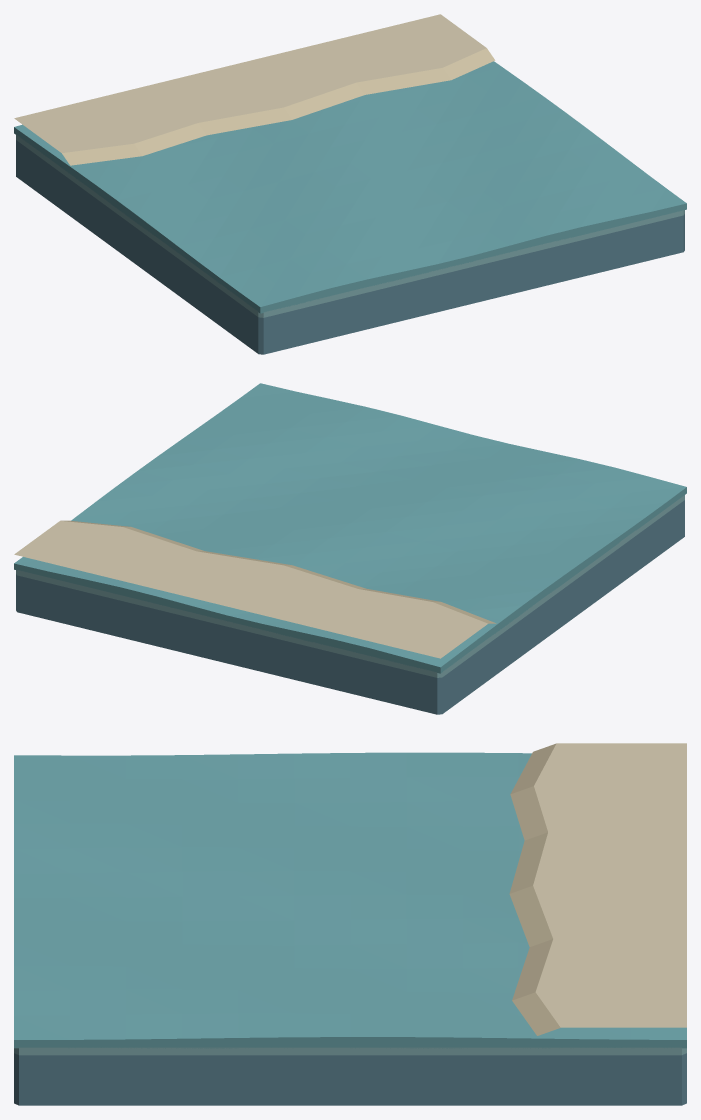
3 renders of one model, top to bottom at view 1: azimuth 30°, elevation 25°; view 2: azimuth 150°, elevation 25°; view 3: azimuth 270°, elevation 25°, orthographic. The views are drawn at different scales.
Visible parts, largest first — view 1: B12; view 2: B12; view 3: B12.
Boxes of the visible parts, x1,y1,x2,y2 form: B12: (14, 14, 686, 354); B12: (14, 383, 686, 714); B12: (14, 743, 686, 1105).
Size of the model in its own units: 8 by 1.02 by 8.
